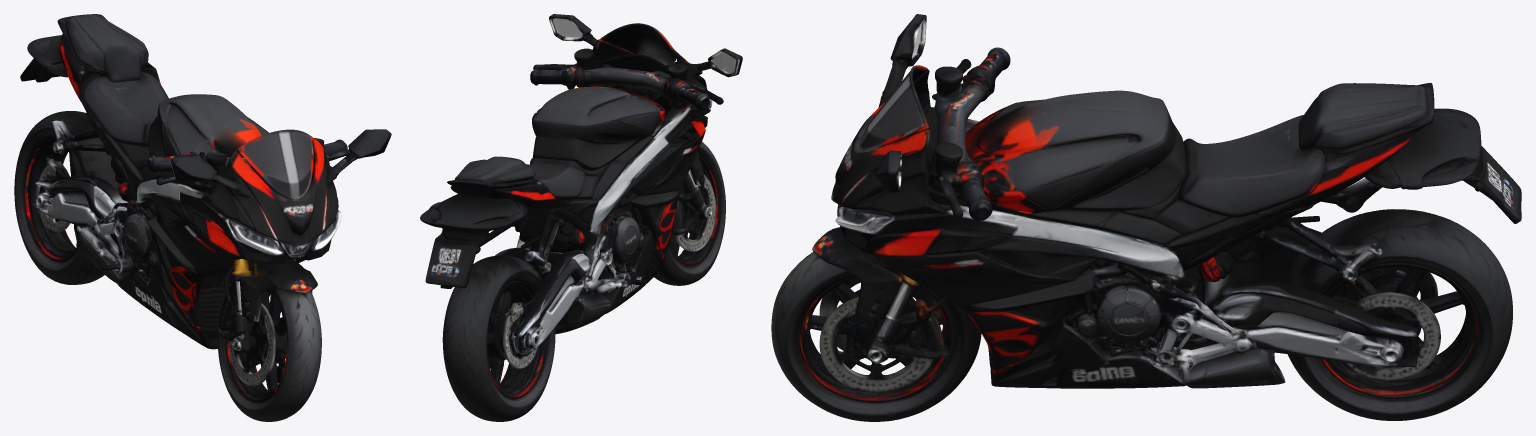
File: rodin-bike-optimized.glb
3 renders of one model, left to right at view 1: azimuth 30°, elevation 25°; view 2: azimuth 150°, elevation 25°; view 3: azimuth 270°, elevation 25°, orthographic. The views are drawn at different scales.
Parts seen in each view (by area): view 1: node_0; view 2: node_0; view 3: node_0.
Part boxes in pixels (x1,y1,x2,y2): node_0: [14, 14, 391, 421]; node_0: [420, 14, 742, 421]; node_0: [771, 14, 1521, 421].
Size of the model in its own units: 0.5023 by 0.6175 by 1.14.
Materials: 1 (1 with a texture image).
